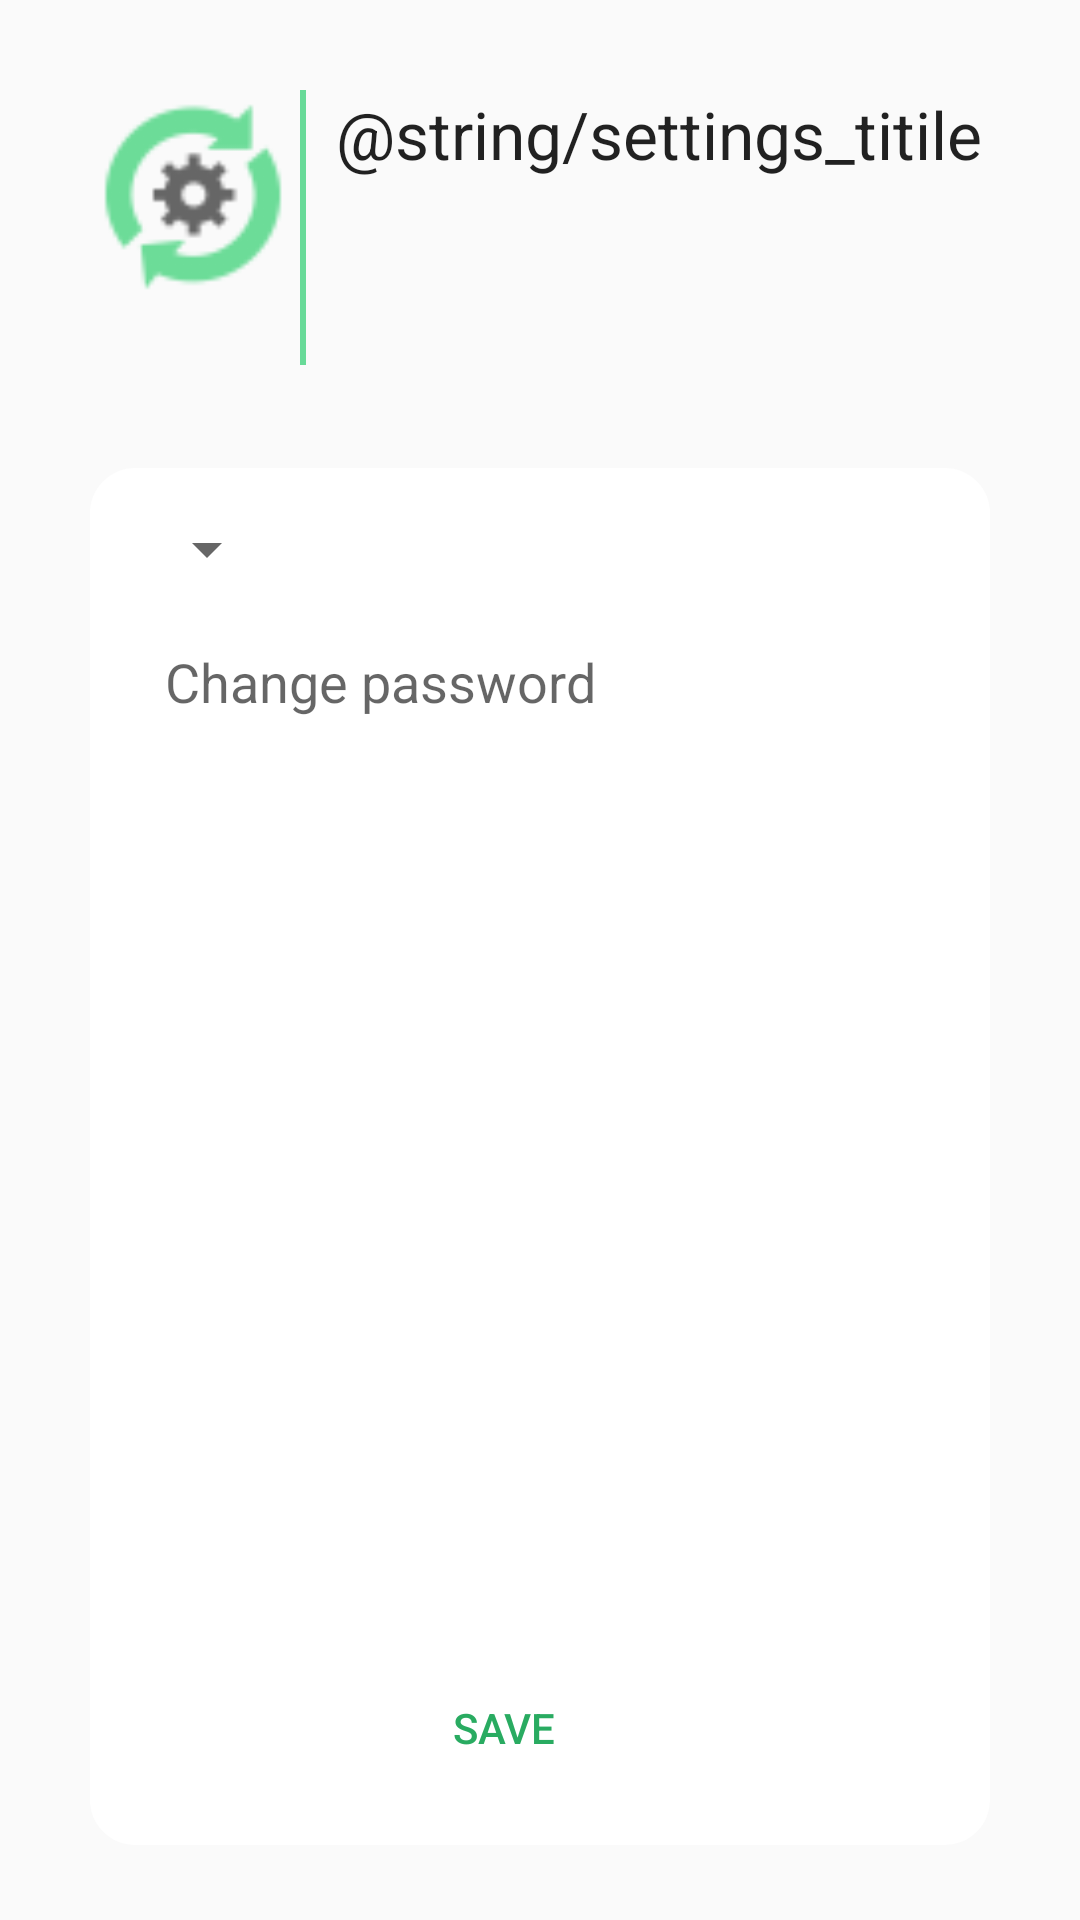

Screen size 1080 × 1920. Icon name, then its box in pixels as (x1, y1, x2, y2):
configure: (105, 105, 281, 289)
